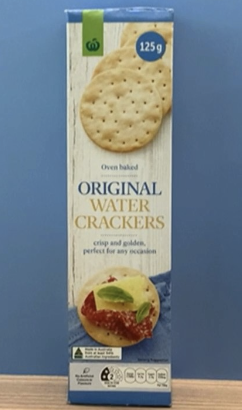crackers_150g: (71, 18, 169, 392)
